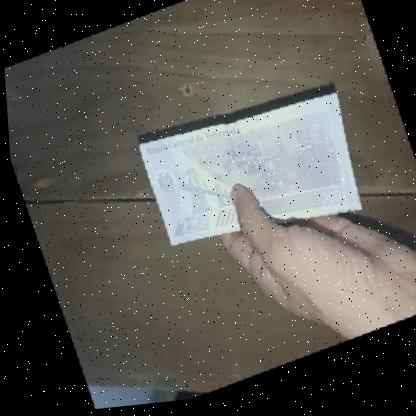vef_back: (133, 96, 362, 267)
